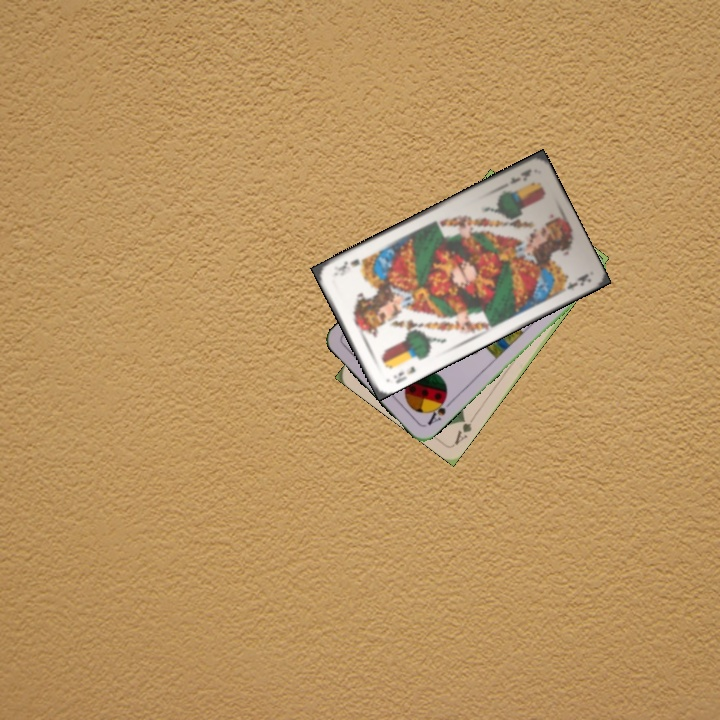EK: (389, 362, 418, 386), (505, 165, 534, 187)
GA: (450, 411, 478, 448)
SA: (423, 392, 450, 428)
